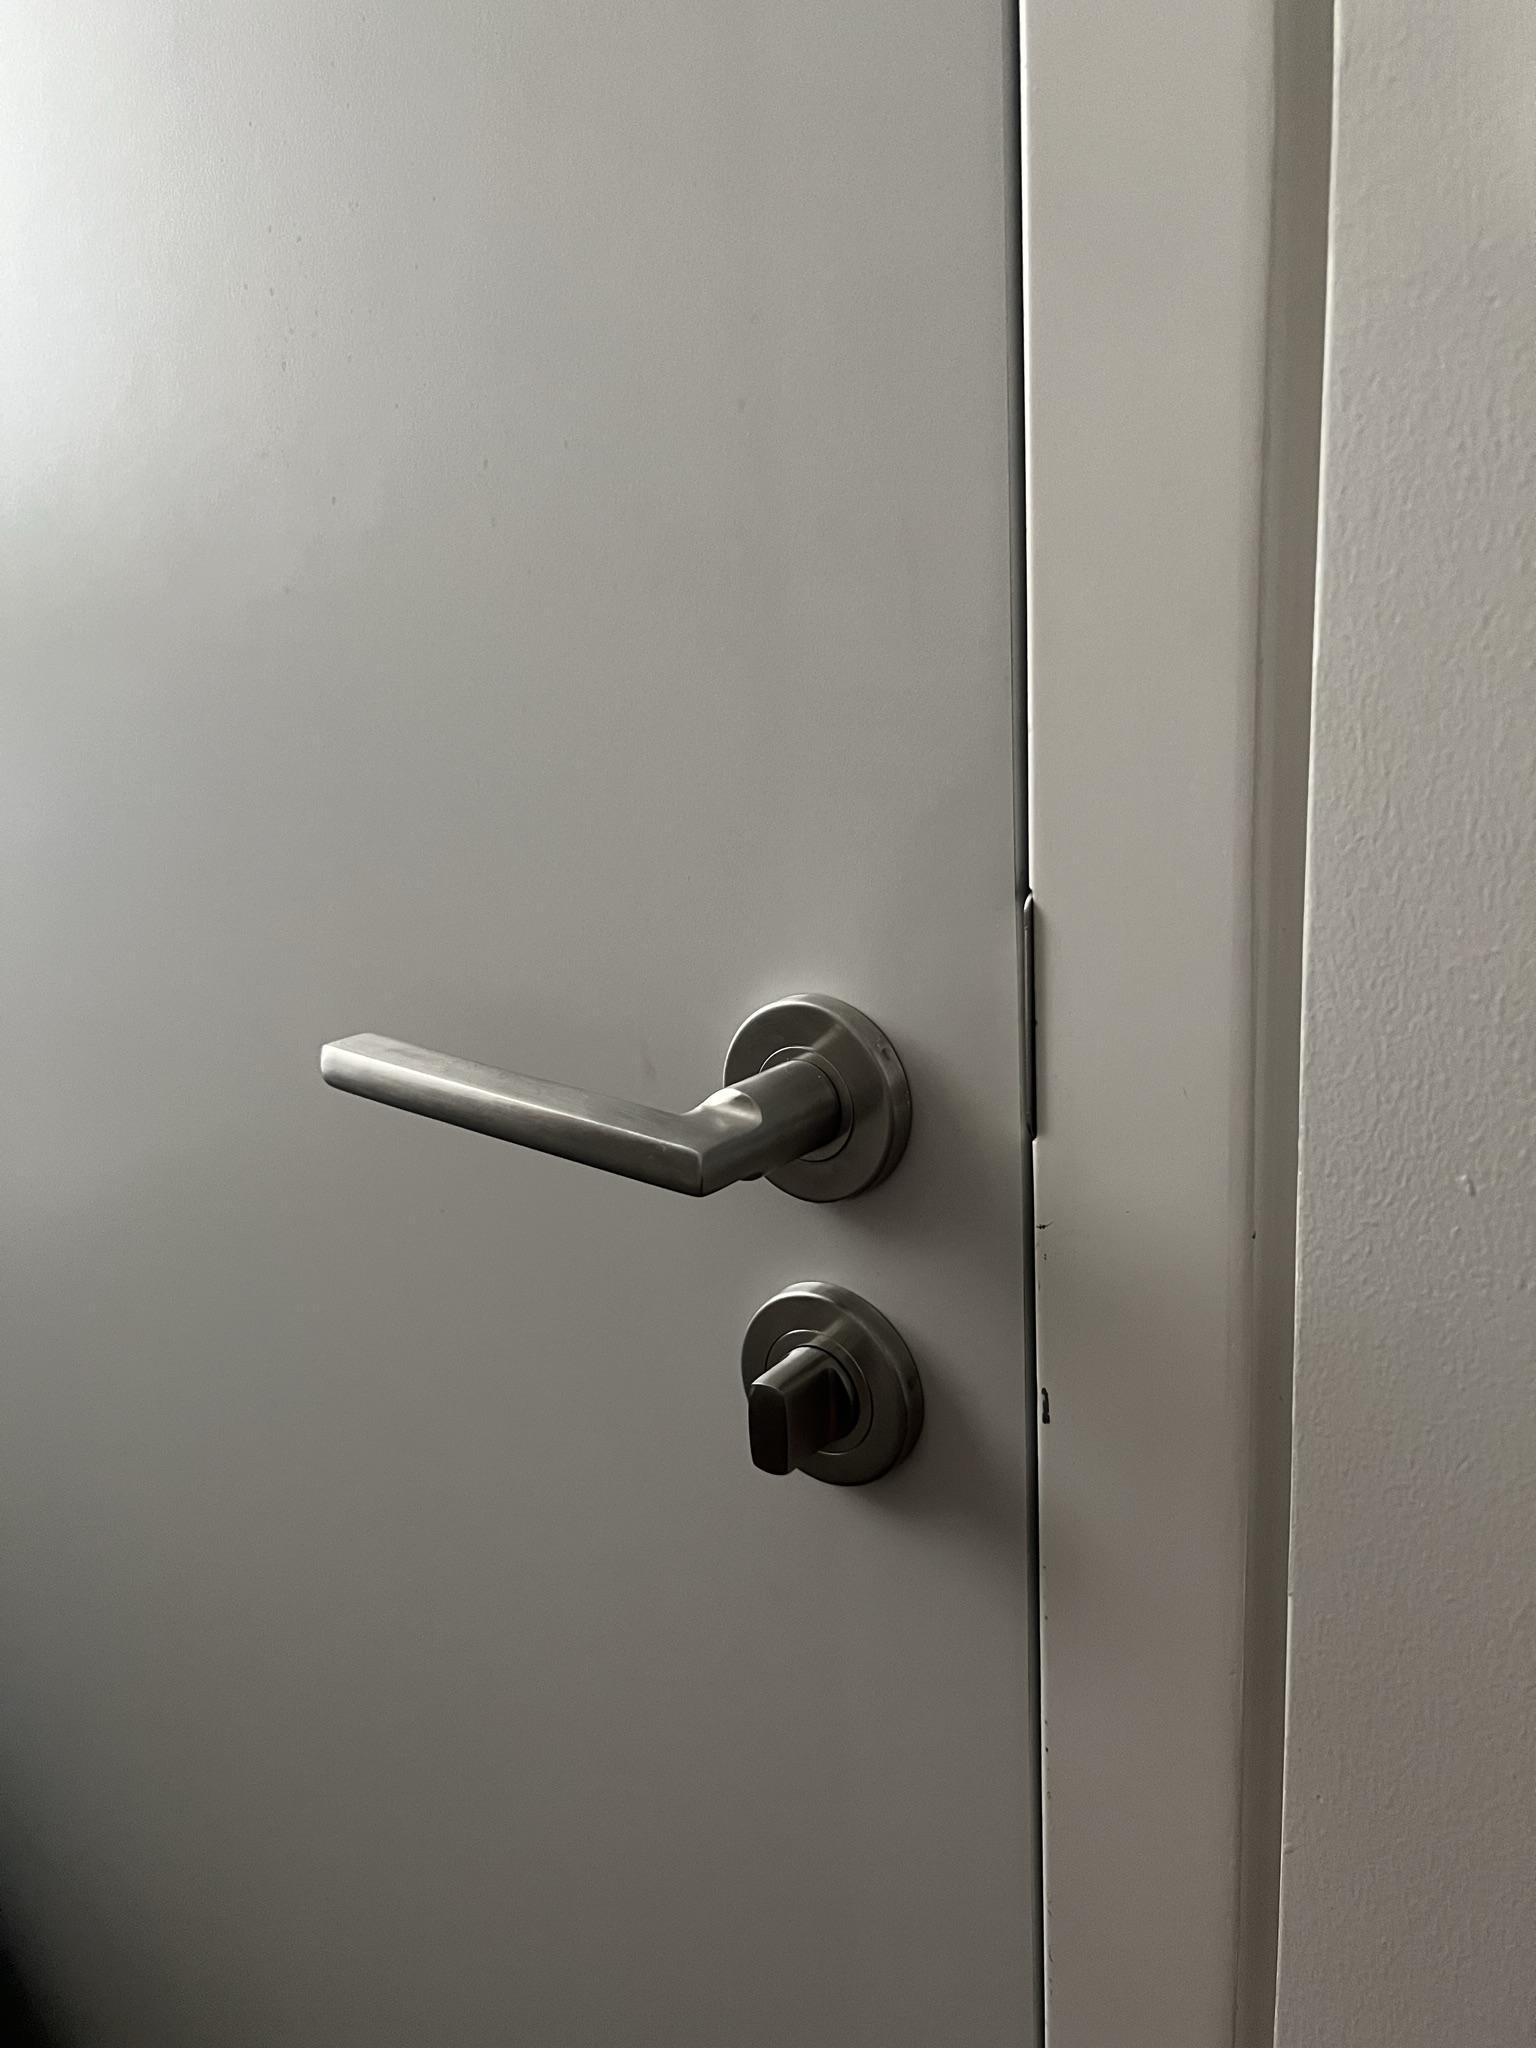handle: (298, 961, 949, 1509)
